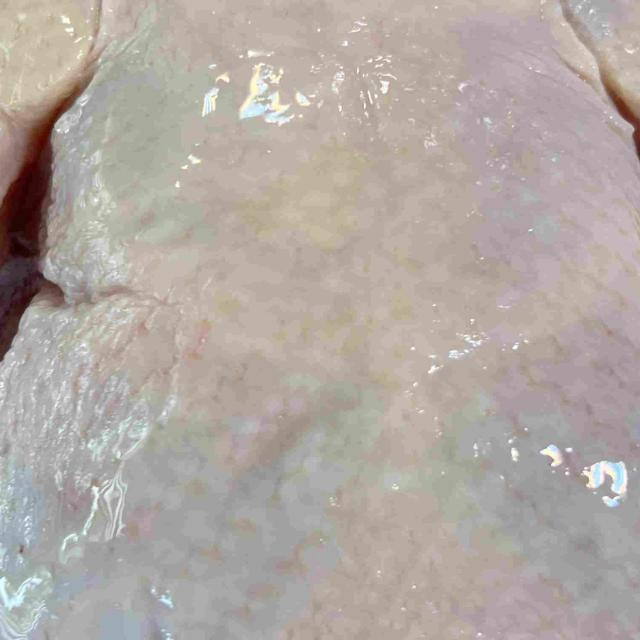back: (0, 0, 640, 640)
